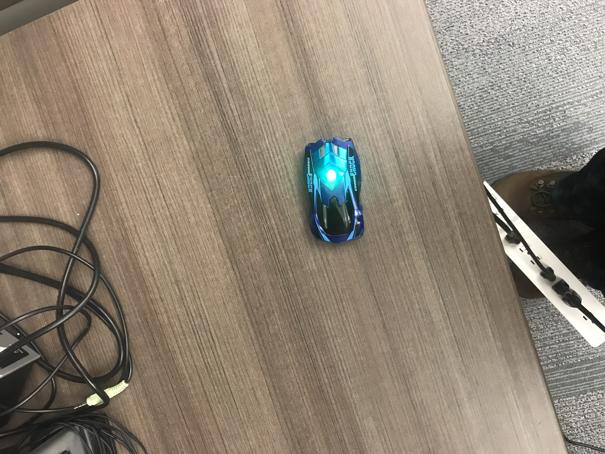Shock: (303, 138, 366, 244)
